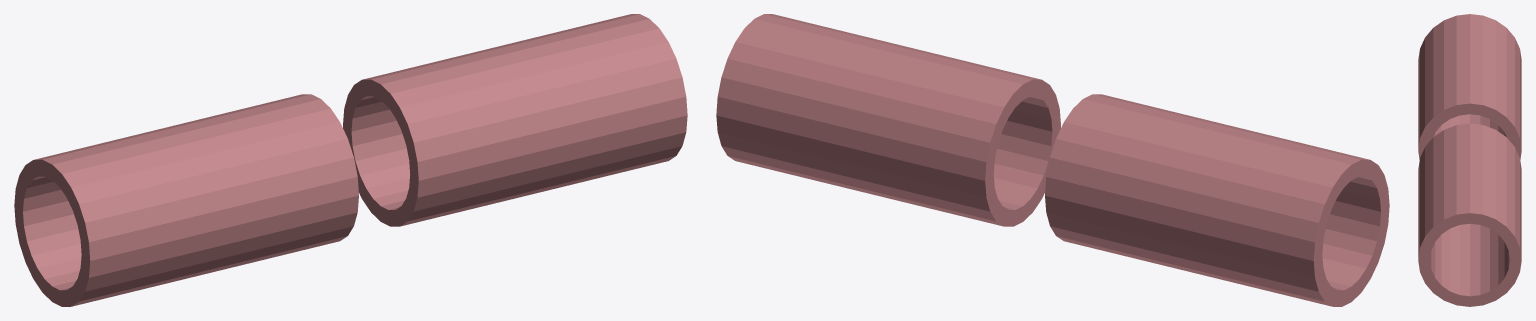
File: dranmar_rescue_bowel_leaking.glb
3 views of the same model, side by side, from view 1: azimuth 30°, elevation 25°; view 2: azimuth 150°, elevation 25°; view 3: azimuth 270°, elevation 25° (orthographic). The views are drawn at different scales.
Visible parts, largest first — view 1: Proximal, Distal; view 2: Proximal, Distal; view 3: Distal, Proximal.
Boxes of the visible parts, box(x1,y1,x2,y2) form: Proximal: box(14, 94, 358, 306); Distal: box(343, 14, 687, 226); Proximal: box(1045, 94, 1389, 306); Distal: box(716, 14, 1060, 226); Distal: box(1418, 123, 1521, 306); Proximal: box(1418, 14, 1521, 159).
Bounding box in the file's own units: 0.2 × 0.044 × 0.044.
